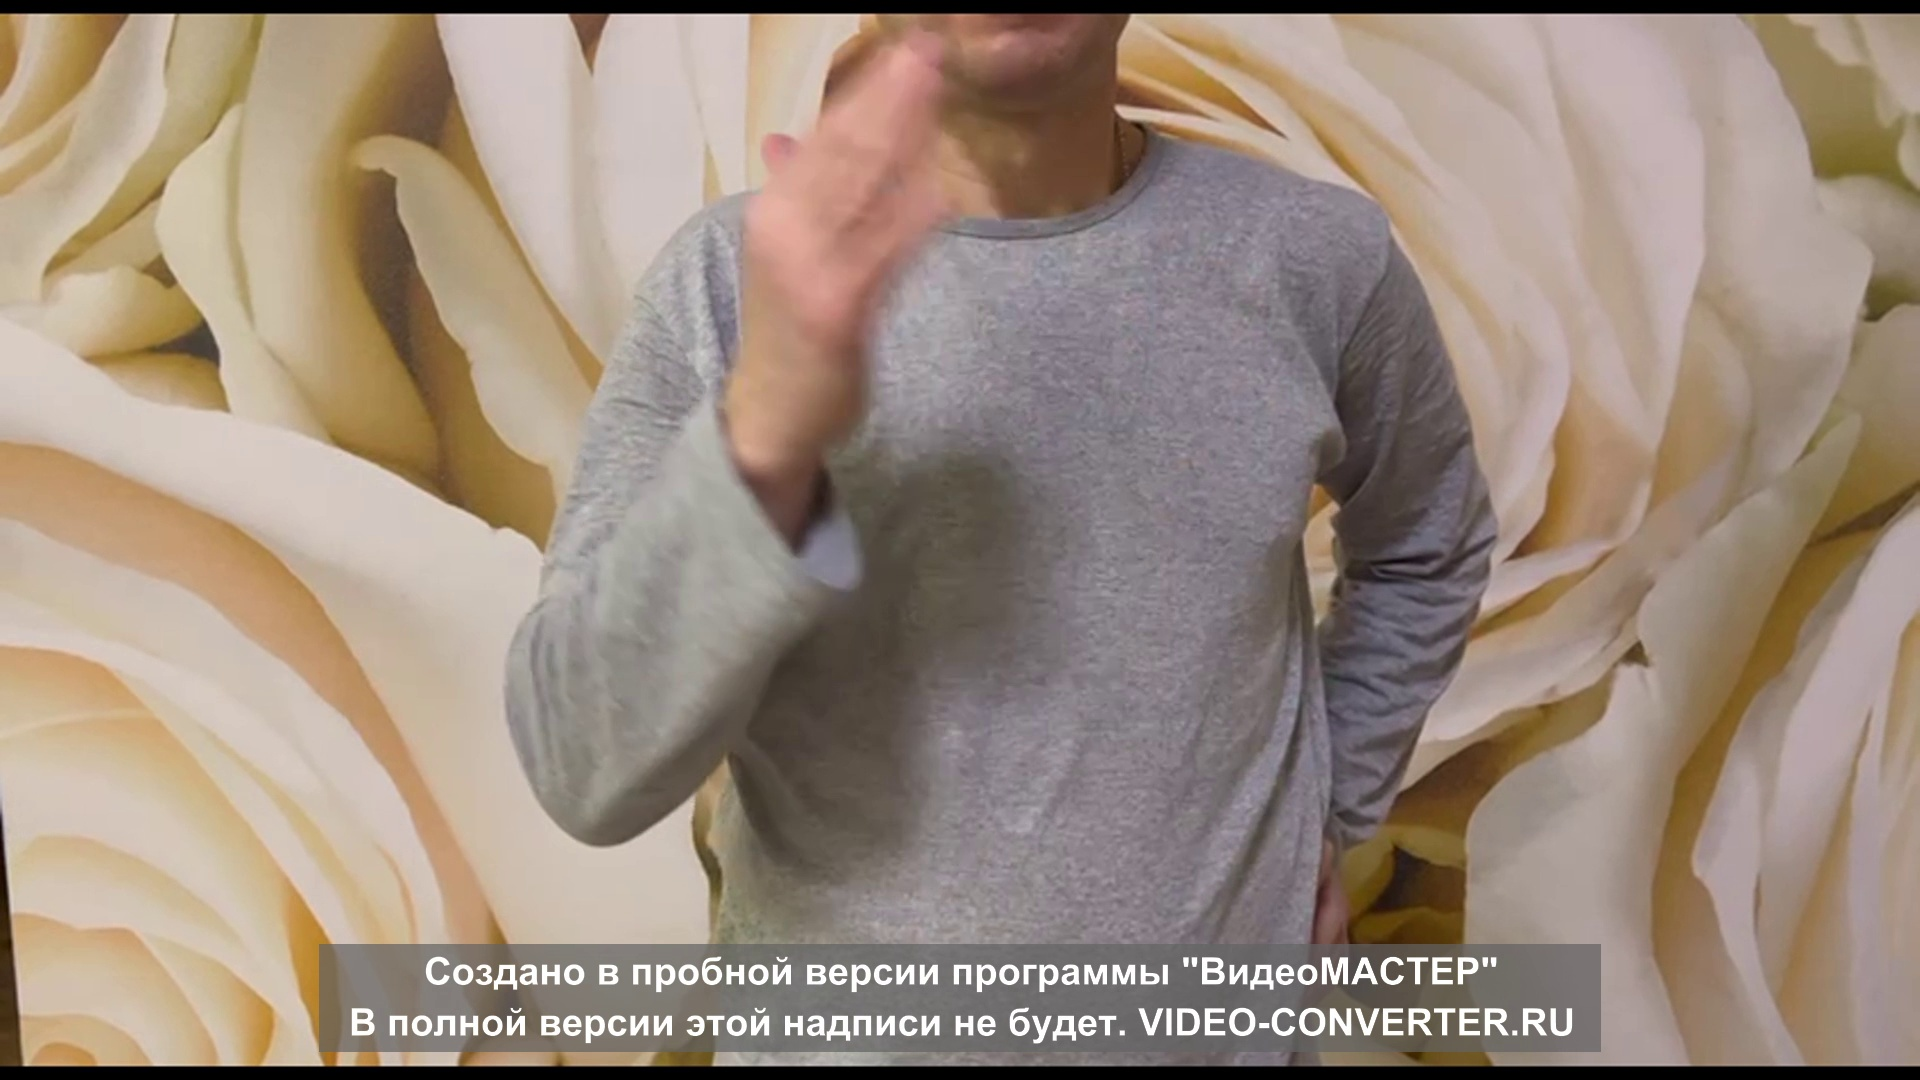Кисть: (744, 32, 935, 447)
